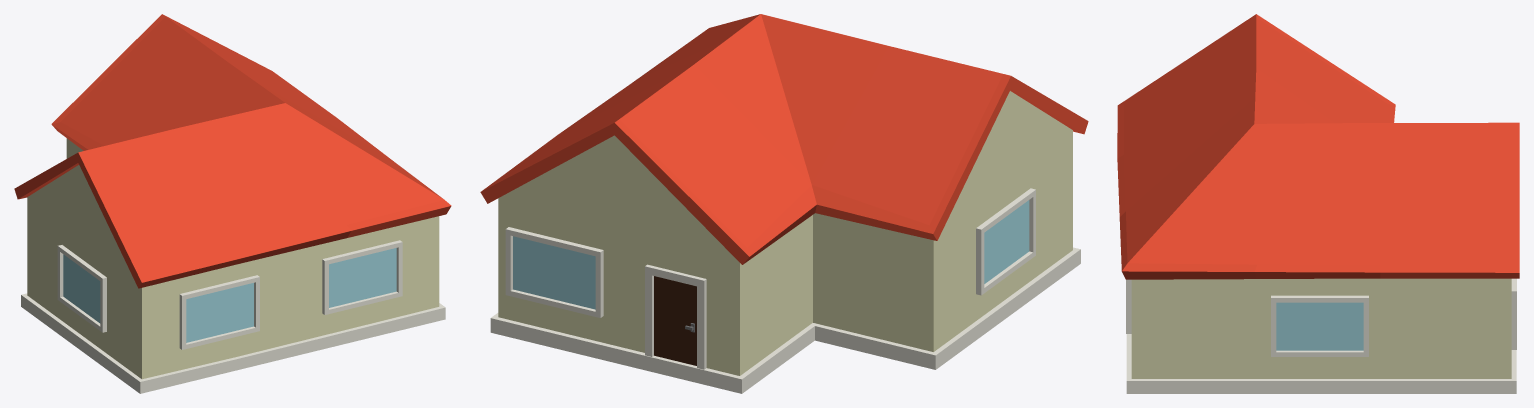
3 renders of one model, left to right at view 1: azimuth 30°, elevation 25°; view 2: azimuth 150°, elevation 25°; view 3: azimuth 270°, elevation 25°, orthographic. The views are drawn at different scales.
Visible parts, largest first — view 1: L-1; view 2: L-1; view 3: L-1.
Boxes of the visible parts, x1,y1,x2,y2 form: L-1: [14, 14, 451, 393]; L-1: [480, 14, 1088, 393]; L-1: [1117, 14, 1519, 393].
Bounding box in the file's own units: 10.09 × 6.08 × 10.24.
